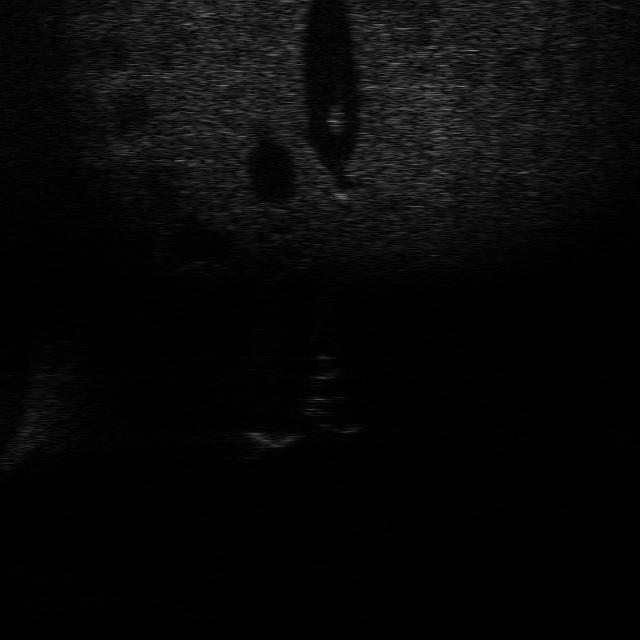ball: (302, 347, 348, 383)
square cage: (236, 426, 305, 461)
tyre: (296, 392, 372, 435)
